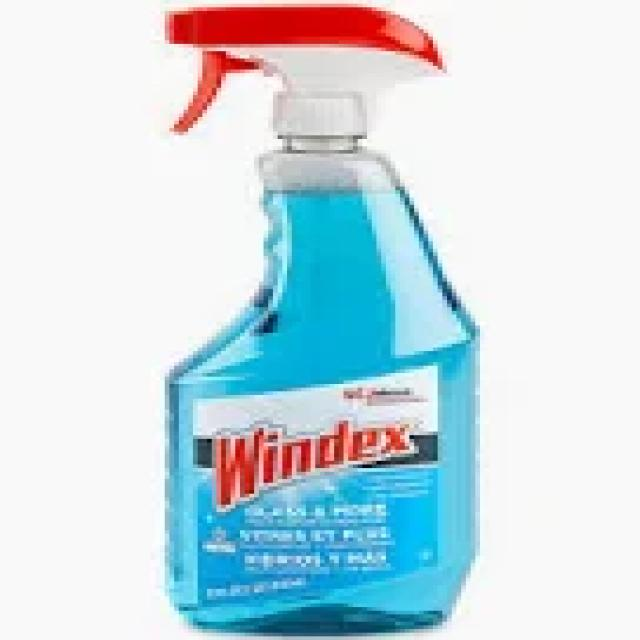Botella: (123, 0, 494, 625)
